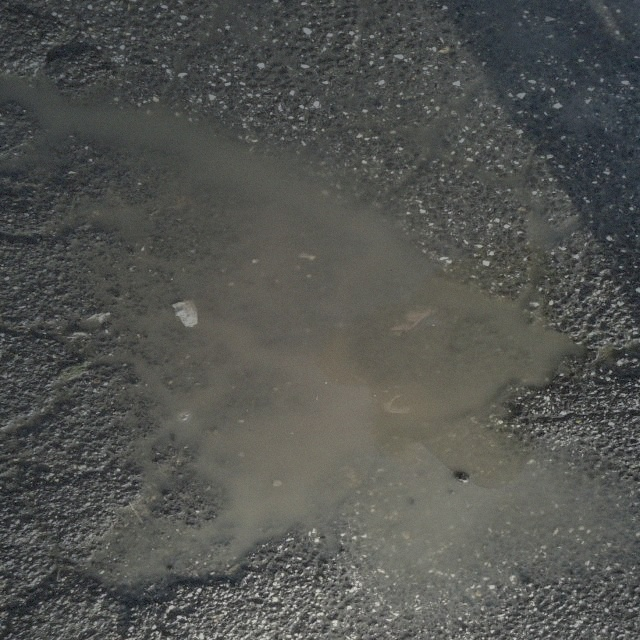pothole: (45, 360, 445, 606)
